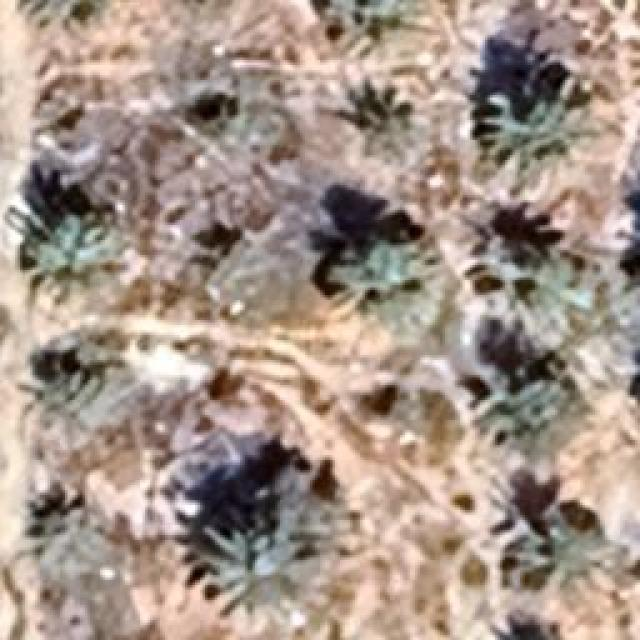PalmTree: (478, 82, 608, 196), (180, 522, 312, 610), (477, 228, 575, 338), (508, 496, 614, 586), (315, 75, 420, 163), (28, 215, 122, 310), (25, 331, 115, 429), (325, 242, 440, 316), (462, 362, 550, 450), (325, 0, 433, 60), (25, 498, 103, 572), (15, 0, 110, 30)
